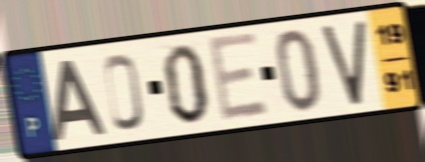0: (274, 26, 324, 115), (160, 41, 212, 126), (102, 52, 146, 134)
A: (50, 57, 109, 143)
E: (205, 29, 272, 127)
V: (319, 16, 367, 109)
